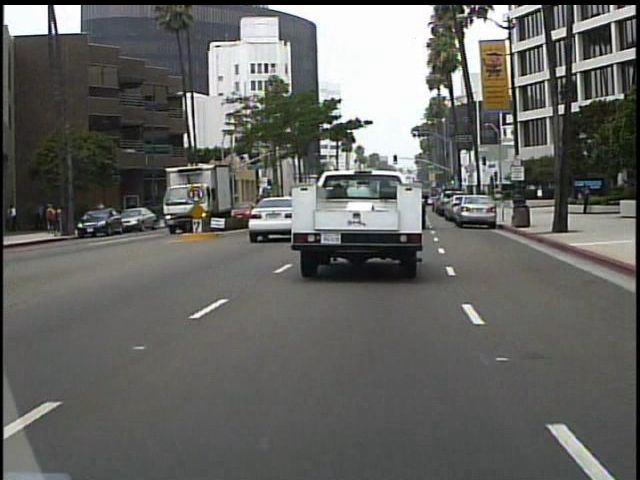person: (577, 179, 593, 216)
